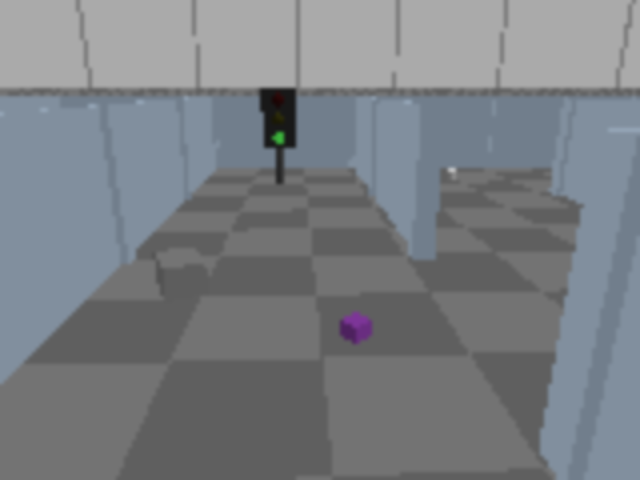obstacle: (153, 246, 208, 303)
puck: (339, 312, 372, 344)
